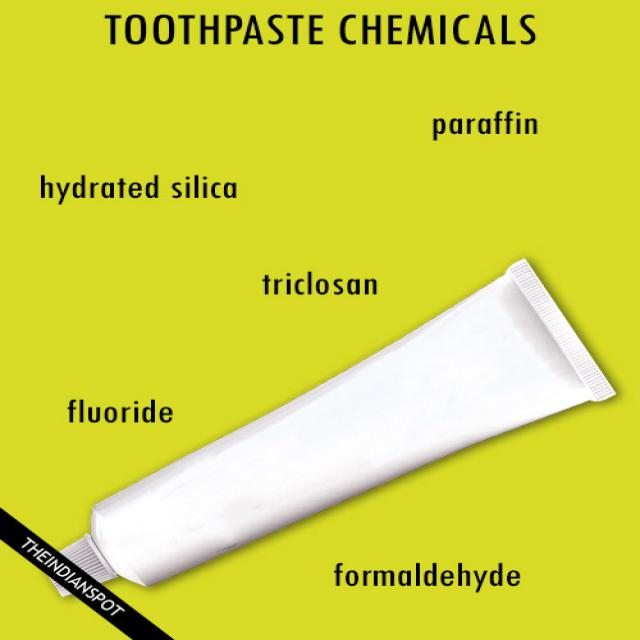toothpaste: (29, 250, 624, 602)
